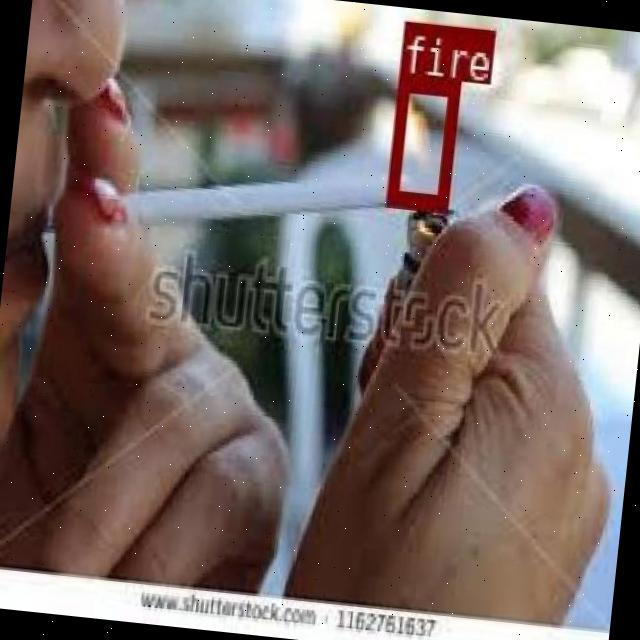fire: (384, 74, 458, 208)
